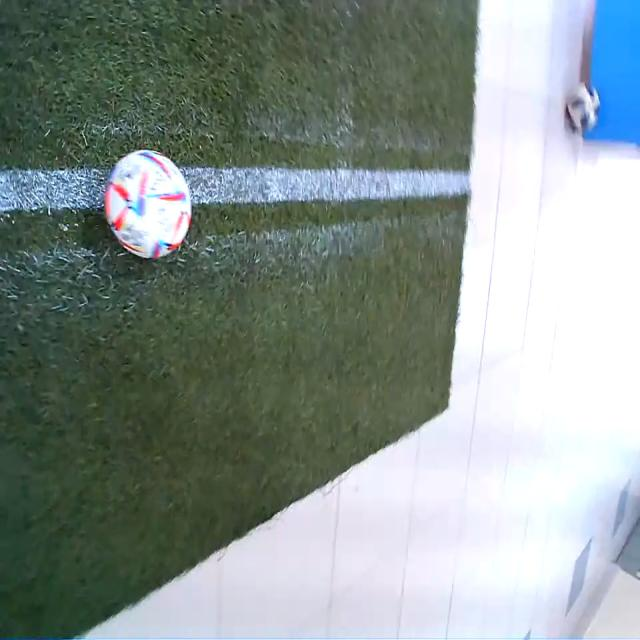ball: (104, 148, 192, 261)
